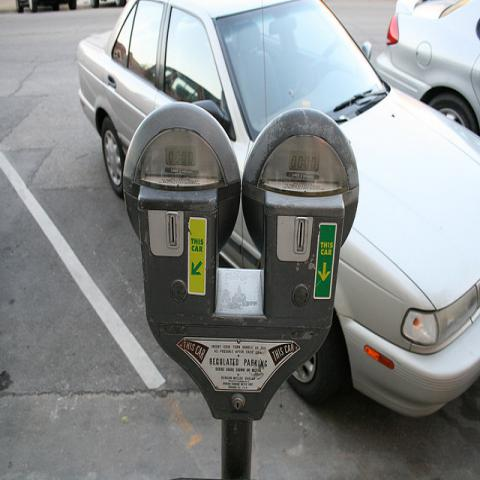car: (74, 0, 480, 424), (370, 4, 479, 134), (16, 0, 76, 14)
